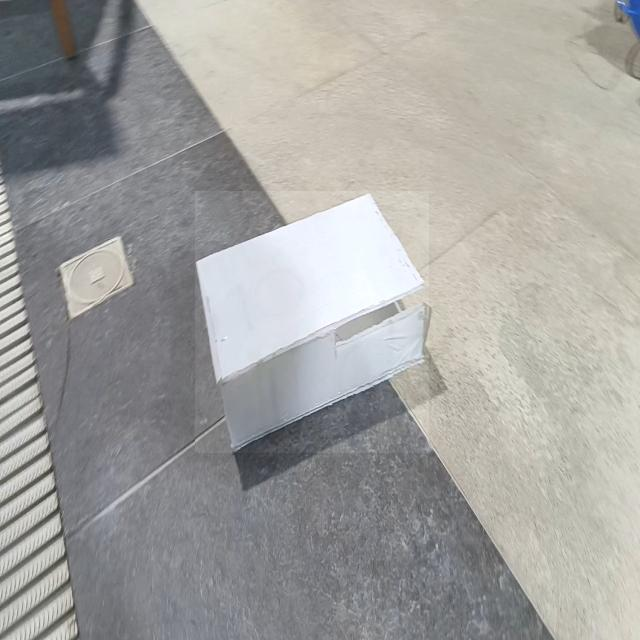Cuboid: (195, 192, 429, 454)
